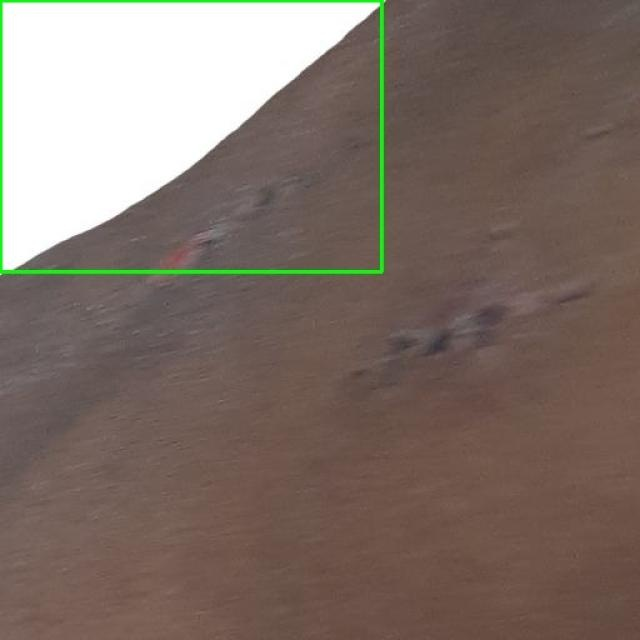Contact Dermatitis: (0, 0, 381, 271)
